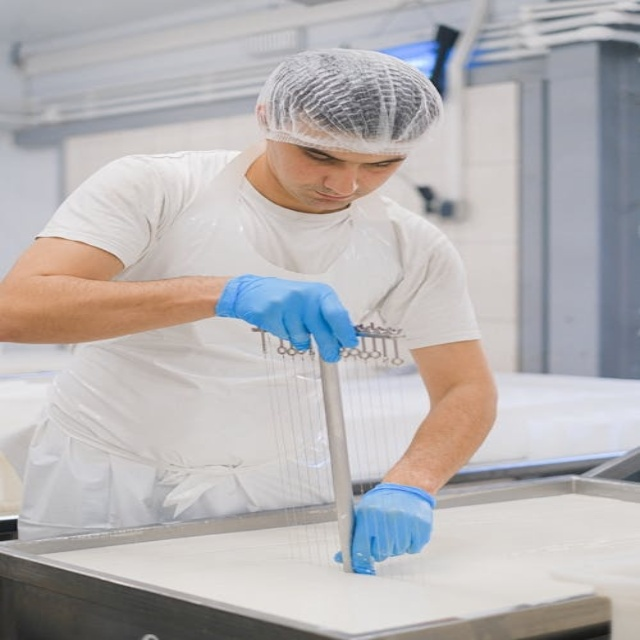Guantes: (216, 274, 359, 362), (335, 482, 436, 573)
Sin_gafas: (297, 146, 404, 179)
Sin_mascara: (303, 185, 365, 208)
